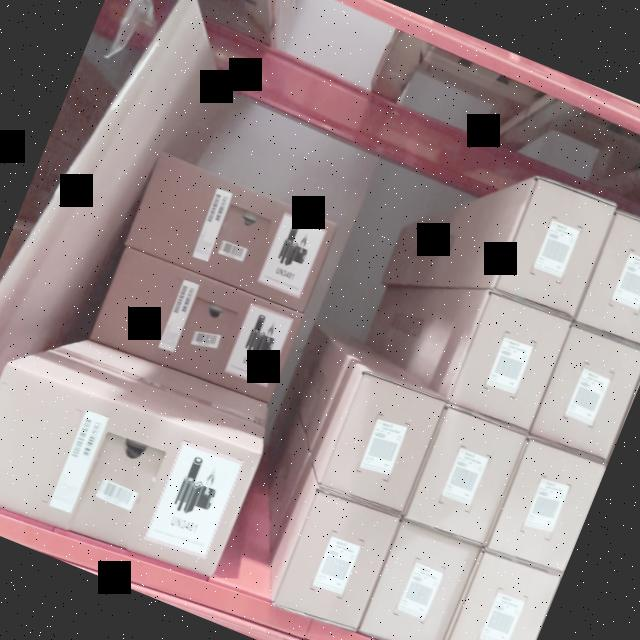box: (0, 365, 255, 577), (126, 154, 337, 313), (94, 247, 302, 402), (319, 370, 445, 514), (446, 289, 572, 429), (404, 404, 526, 547), (274, 492, 398, 630), (494, 176, 614, 316), (487, 439, 604, 572), (530, 324, 640, 460), (360, 521, 477, 640), (440, 547, 559, 640), (573, 212, 640, 351)
